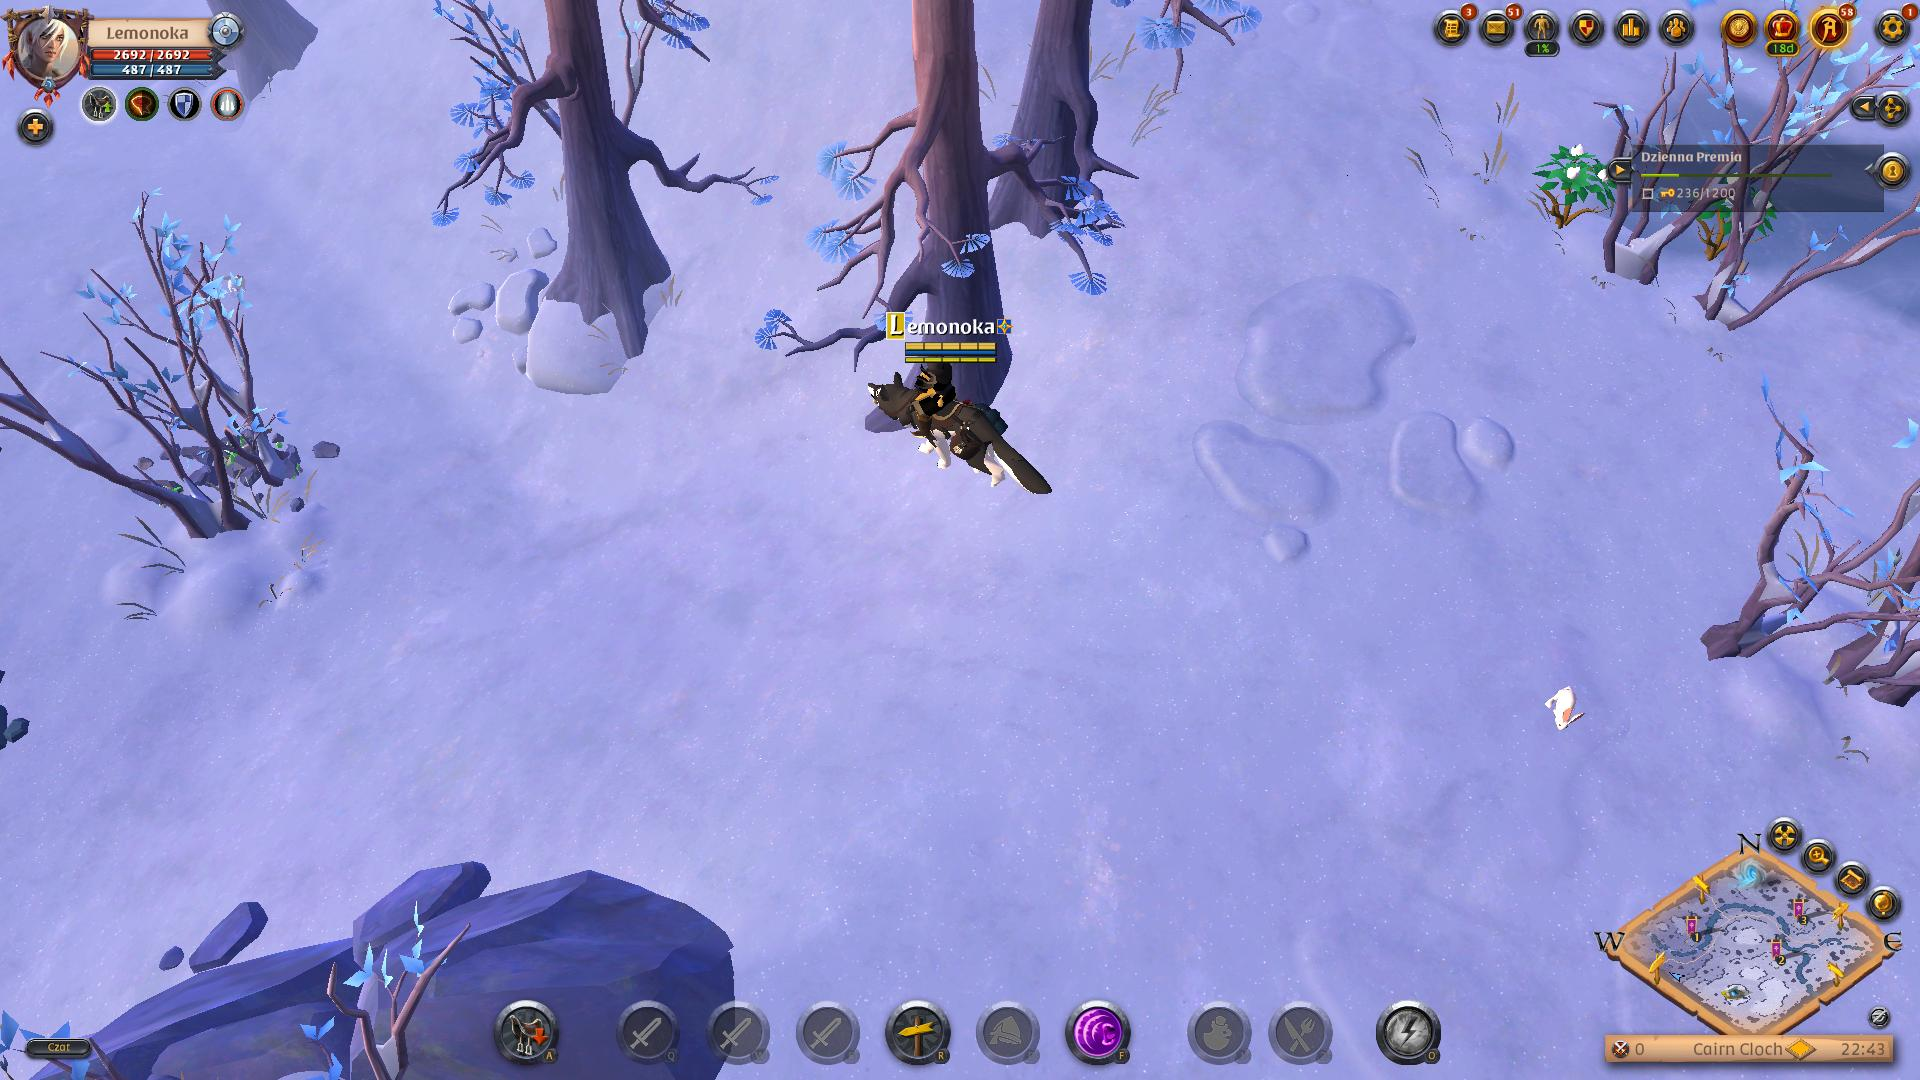fiber tier 3: (1528, 141, 1605, 235)
